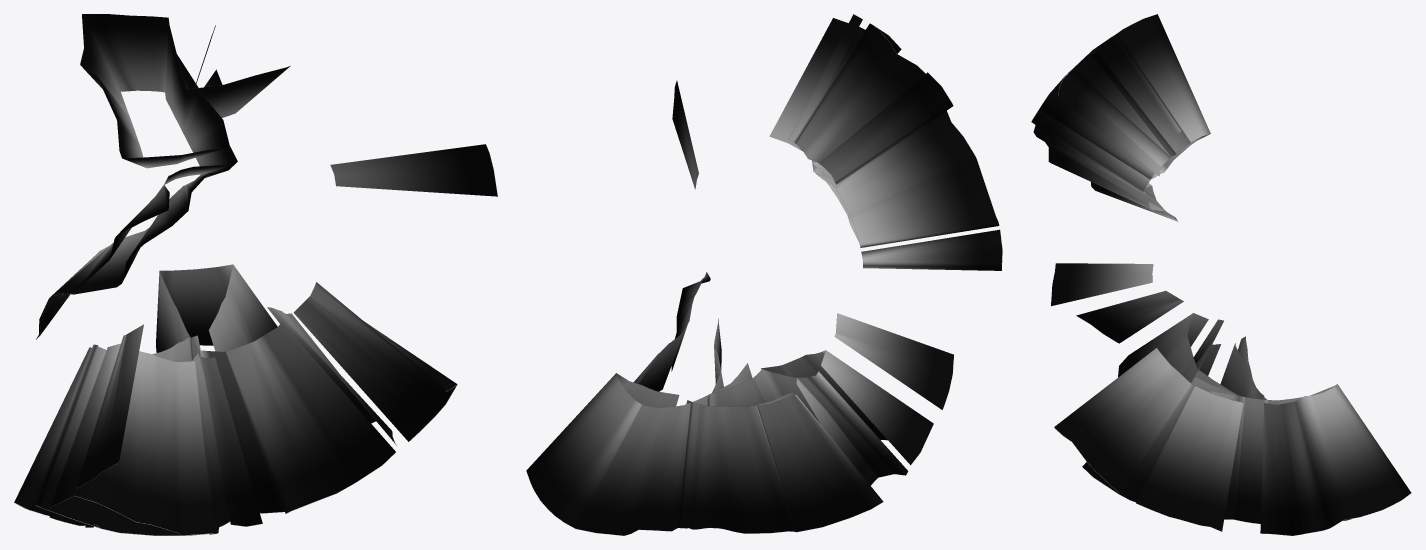
File: lieguang_A5.FBX
The picture shows the model from 3 angles, left to right: view 1: azimuth 30°, elevation 25°; view 2: azimuth 150°, elevation 25°; view 3: azimuth 270°, elevation 25°; orthographic projection. The views are drawn at different scales.
Visible parts, largest first — view 1: lieguang_A5; view 2: lieguang_A5; view 3: lieguang_A5.
Part boxes in pixels (x1,y1,x2,y2): lieguang_A5: (14, 14, 497, 535); lieguang_A5: (526, 14, 1002, 535); lieguang_A5: (1031, 14, 1411, 535).
Size of the model in its own units: 144 by 185 by 144.
